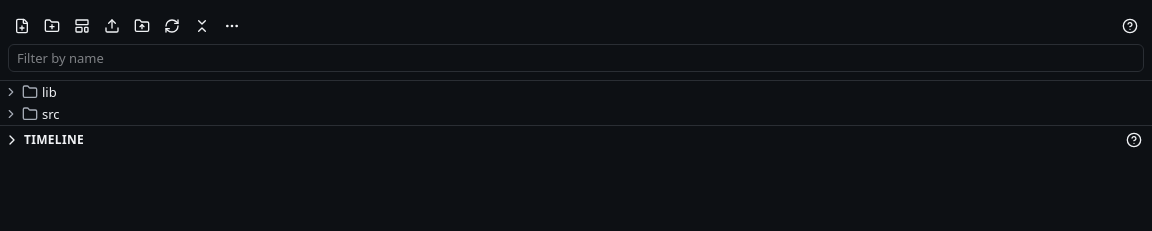
Test: an overflow and a reconnect read everything again — S-190, S-191 › reads every open folder again on an overflow
This screenshot has width=1152, height=231.
Click the list item "src".
click(32, 114)  # box [4,105,60,123]
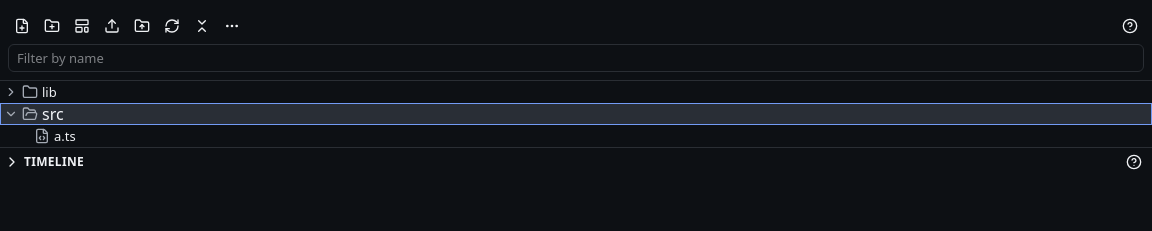
Click the list item "lib".
click(30, 92)  # box [4,83,57,101]
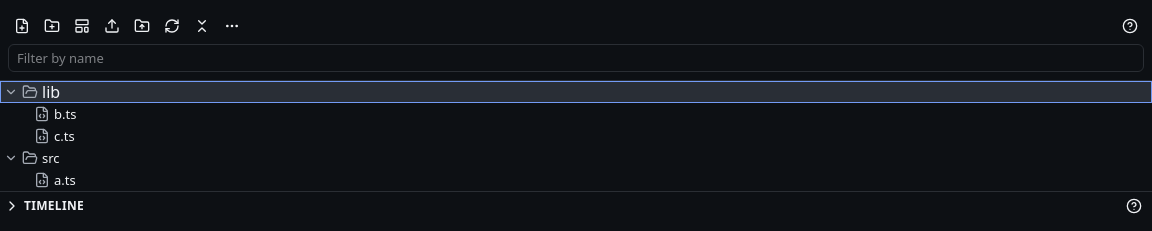
Expected: the list item "c.ts" is shown, [34,127,75,145]
